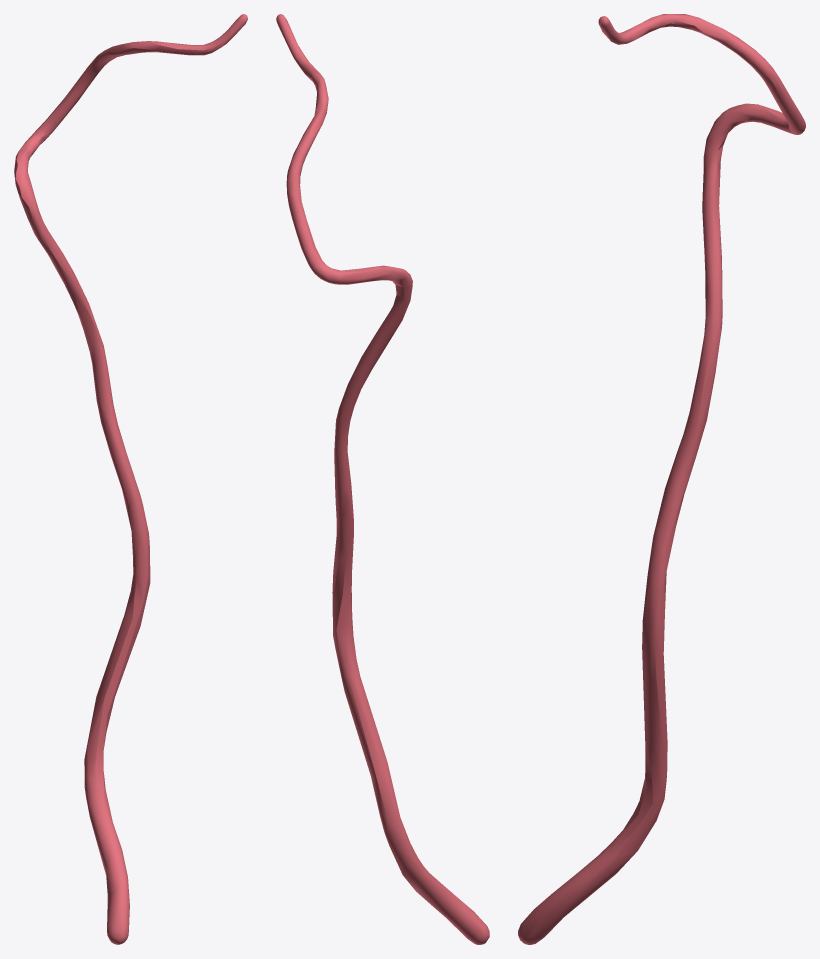
File: fma76261_fj5015.glb
The picture shows the model from 3 angles, left to right: view 1: azimuth 30°, elevation 25°; view 2: azimuth 150°, elevation 25°; view 3: azimuth 270°, elevation 25°; orthographic projection. The views are drawn at different scales.
Visible parts, largest first — view 1: FMA76261_FJ5015; view 2: FMA76261_FJ5015; view 3: FMA76261_FJ5015.
Boxes of the visible parts, bbox=[...] form: FMA76261_FJ5015: bbox=[14, 14, 247, 944]; FMA76261_FJ5015: bbox=[276, 14, 489, 944]; FMA76261_FJ5015: bbox=[518, 14, 805, 944].
Size of the model in its own units: 0.0323 by 0.1501 by 0.0385.
